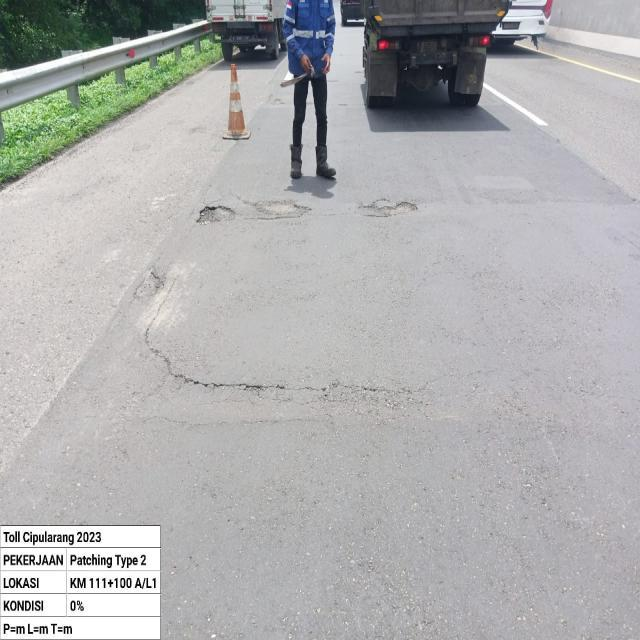Buraco: (356, 197, 421, 220), (240, 198, 314, 218), (131, 264, 169, 300), (194, 204, 238, 227)
